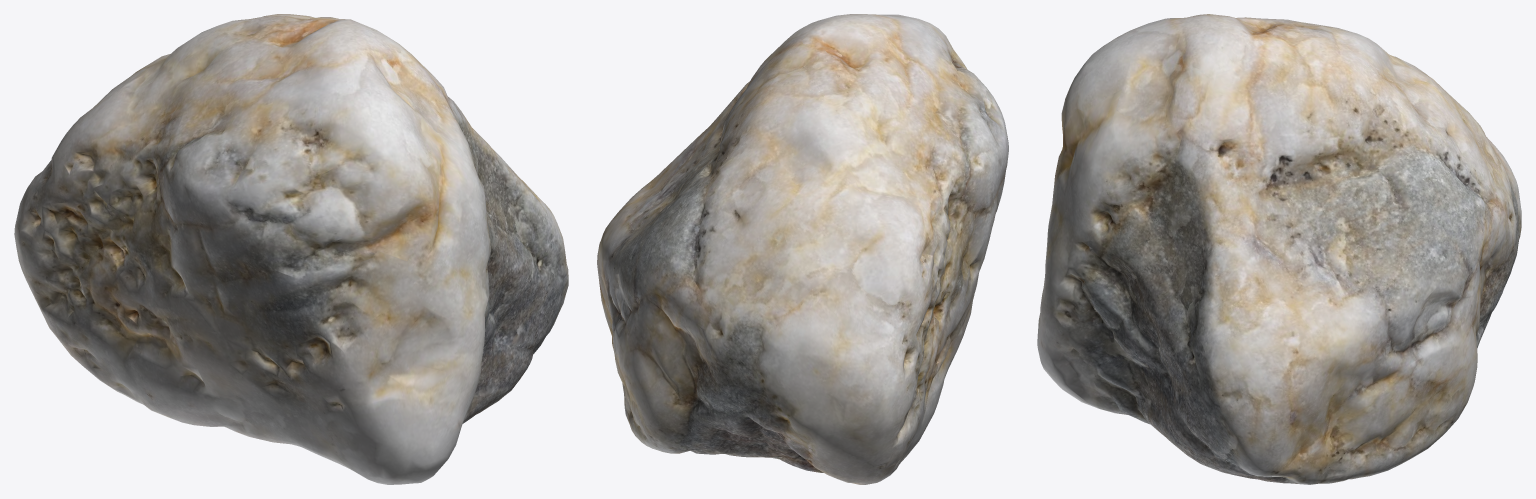
3 views of the same model, side by side, from view 1: azimuth 30°, elevation 25°; view 2: azimuth 150°, elevation 25°; view 3: azimuth 270°, elevation 25° (orthographic). The views are drawn at different scales.
Parts seen in each view (by area): view 1: rock-012; view 2: rock-012; view 3: rock-012.
Boxes of the visible parts, x1,y1,x2,y2 form: rock-012: [14, 14, 568, 484]; rock-012: [597, 14, 1008, 484]; rock-012: [1037, 14, 1521, 484].
Bounding box in the file's own units: 1.93 × 1.77 × 2.
1 material, 1 textured.
